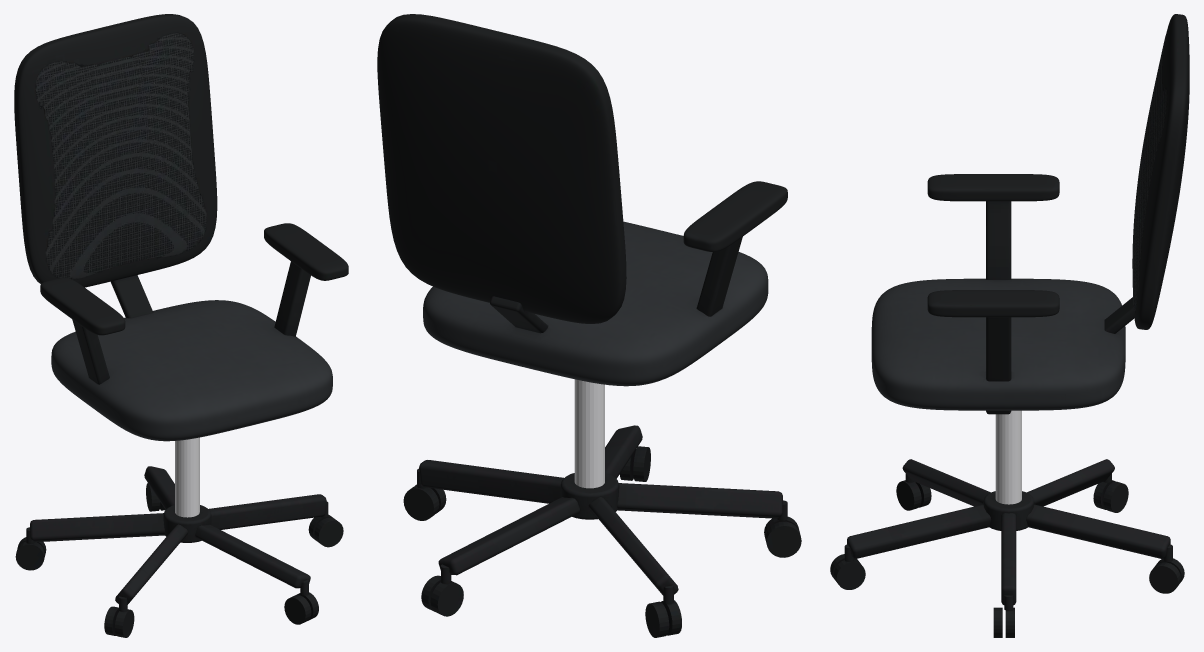
File: mesh-black.glb
The picture shows the model from 3 angles, left to right: view 1: azimuth 30°, elevation 25°; view 2: azimuth 150°, elevation 25°; view 3: azimuth 270°, elevation 25°; orthographic projection. The views are drawn at different scales.
Parts seen in each view (by area): view 1: mesh_fabric, plastic_black, fabric_primary, metal_frame, chrome; view 2: plastic_black, fabric_primary, metal_frame, chrome; view 3: fabric_primary, plastic_black, metal_frame, mesh_fabric, chrome.
Part boxes in pixels (bbox=[...]): mesh_fabric: bbox=[35, 33, 206, 279]; plastic_black: bbox=[14, 14, 348, 637]; fabric_primary: bbox=[51, 300, 332, 441]; metal_frame: bbox=[26, 466, 328, 611]; chrome: bbox=[175, 437, 199, 517]; plastic_black: bbox=[377, 14, 801, 637]; fabric_primary: bbox=[423, 221, 768, 386]; metal_frame: bbox=[417, 425, 787, 603]; chrome: bbox=[574, 379, 604, 488]; fabric_primary: bbox=[871, 278, 1125, 410]; plastic_black: bbox=[830, 14, 1189, 637]; metal_frame: bbox=[844, 459, 1172, 610]; mesh_fabric: bbox=[1132, 31, 1167, 313]; chrome: bbox=[995, 410, 1021, 504].
Size of the model in its own units: 0.67 by 1.13 by 0.7078.
5 materials, 4 textured.
